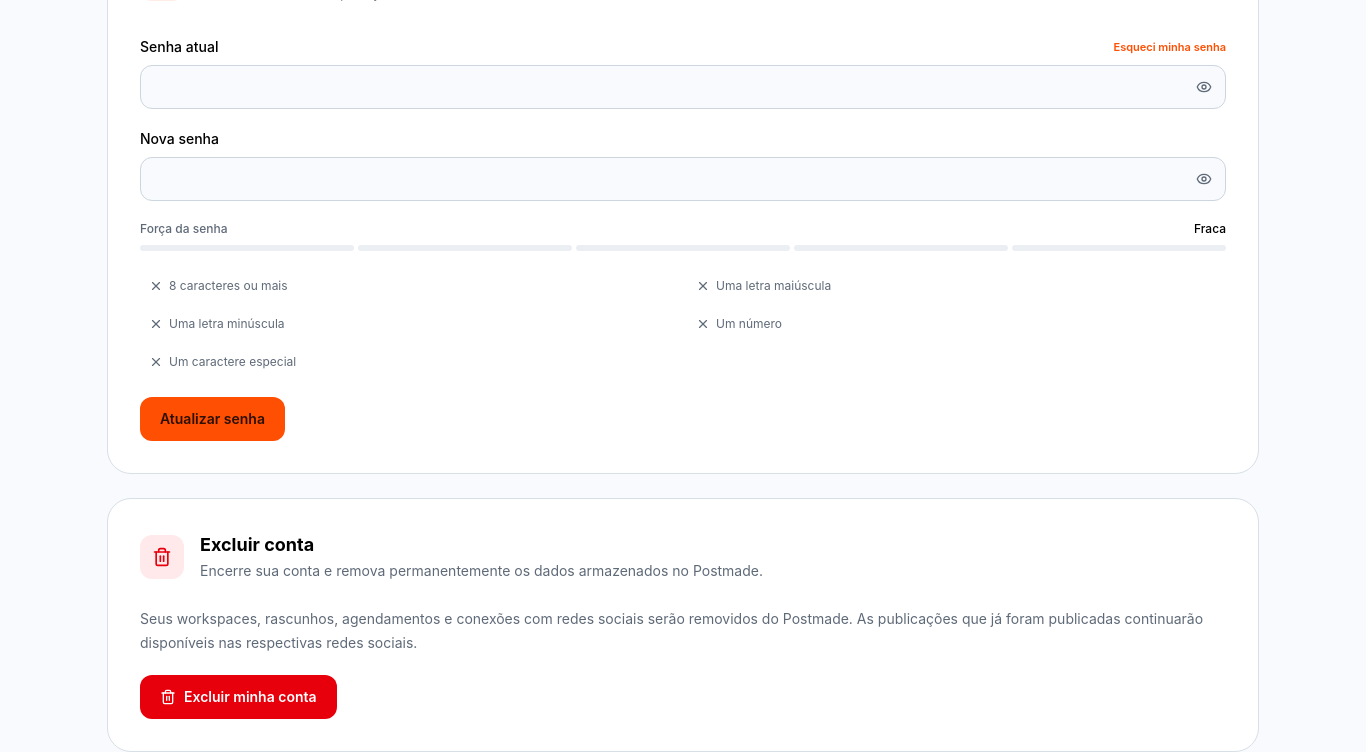
it: AccountPage › blocks deletion while an owned workspace has an active subscription
(page scrolled)
Step 1. Click the button "Excluir minha conta" → (238,697), box x1=140 y1=675 x2=337 y2=719
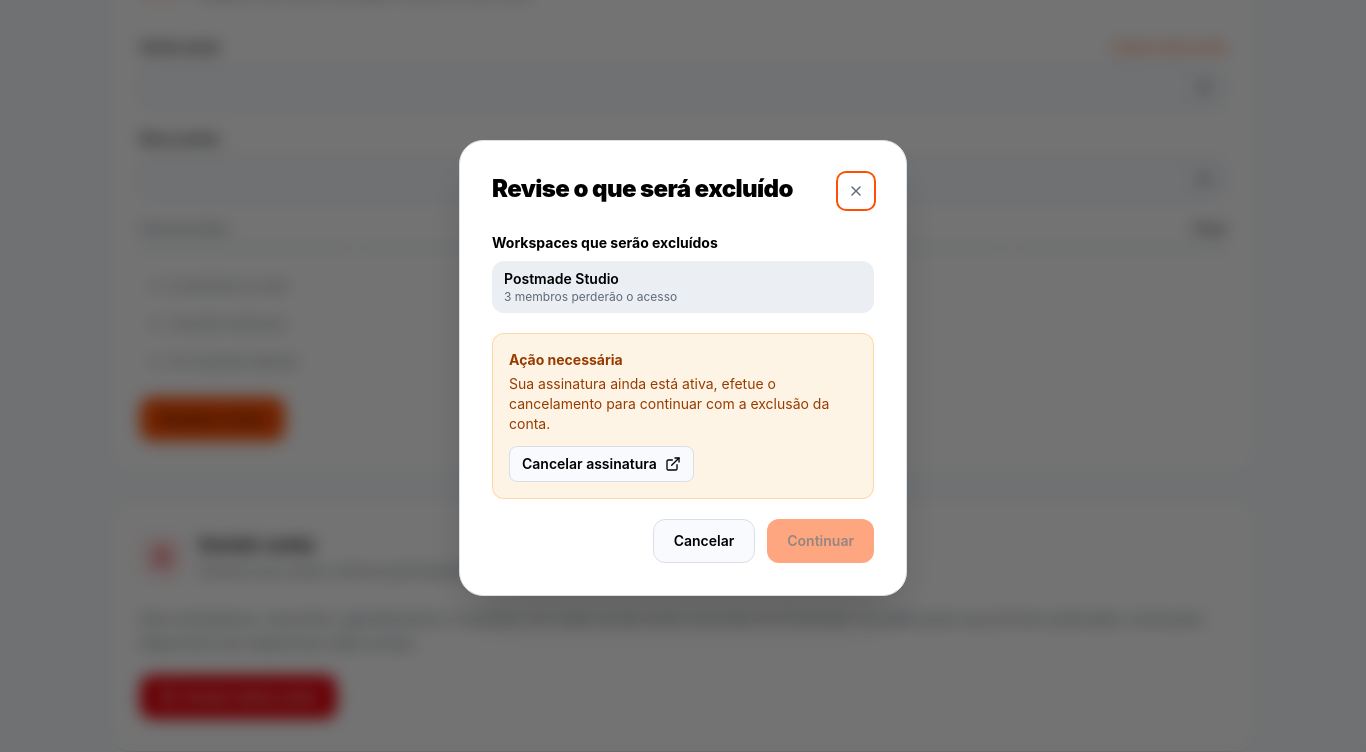
Check: the text "Ação necessária" is shown, box x1=509 y1=351 x2=623 y2=368
Check: the text "Sua assinatura ainda está ativa, efetue o cancelamento para continuar com a exclusão da conta." is shown, box x1=509 y1=375 x2=829 y2=432
Check: the button "Continuar" is disabled, box x1=767 y1=519 x2=874 y2=563
